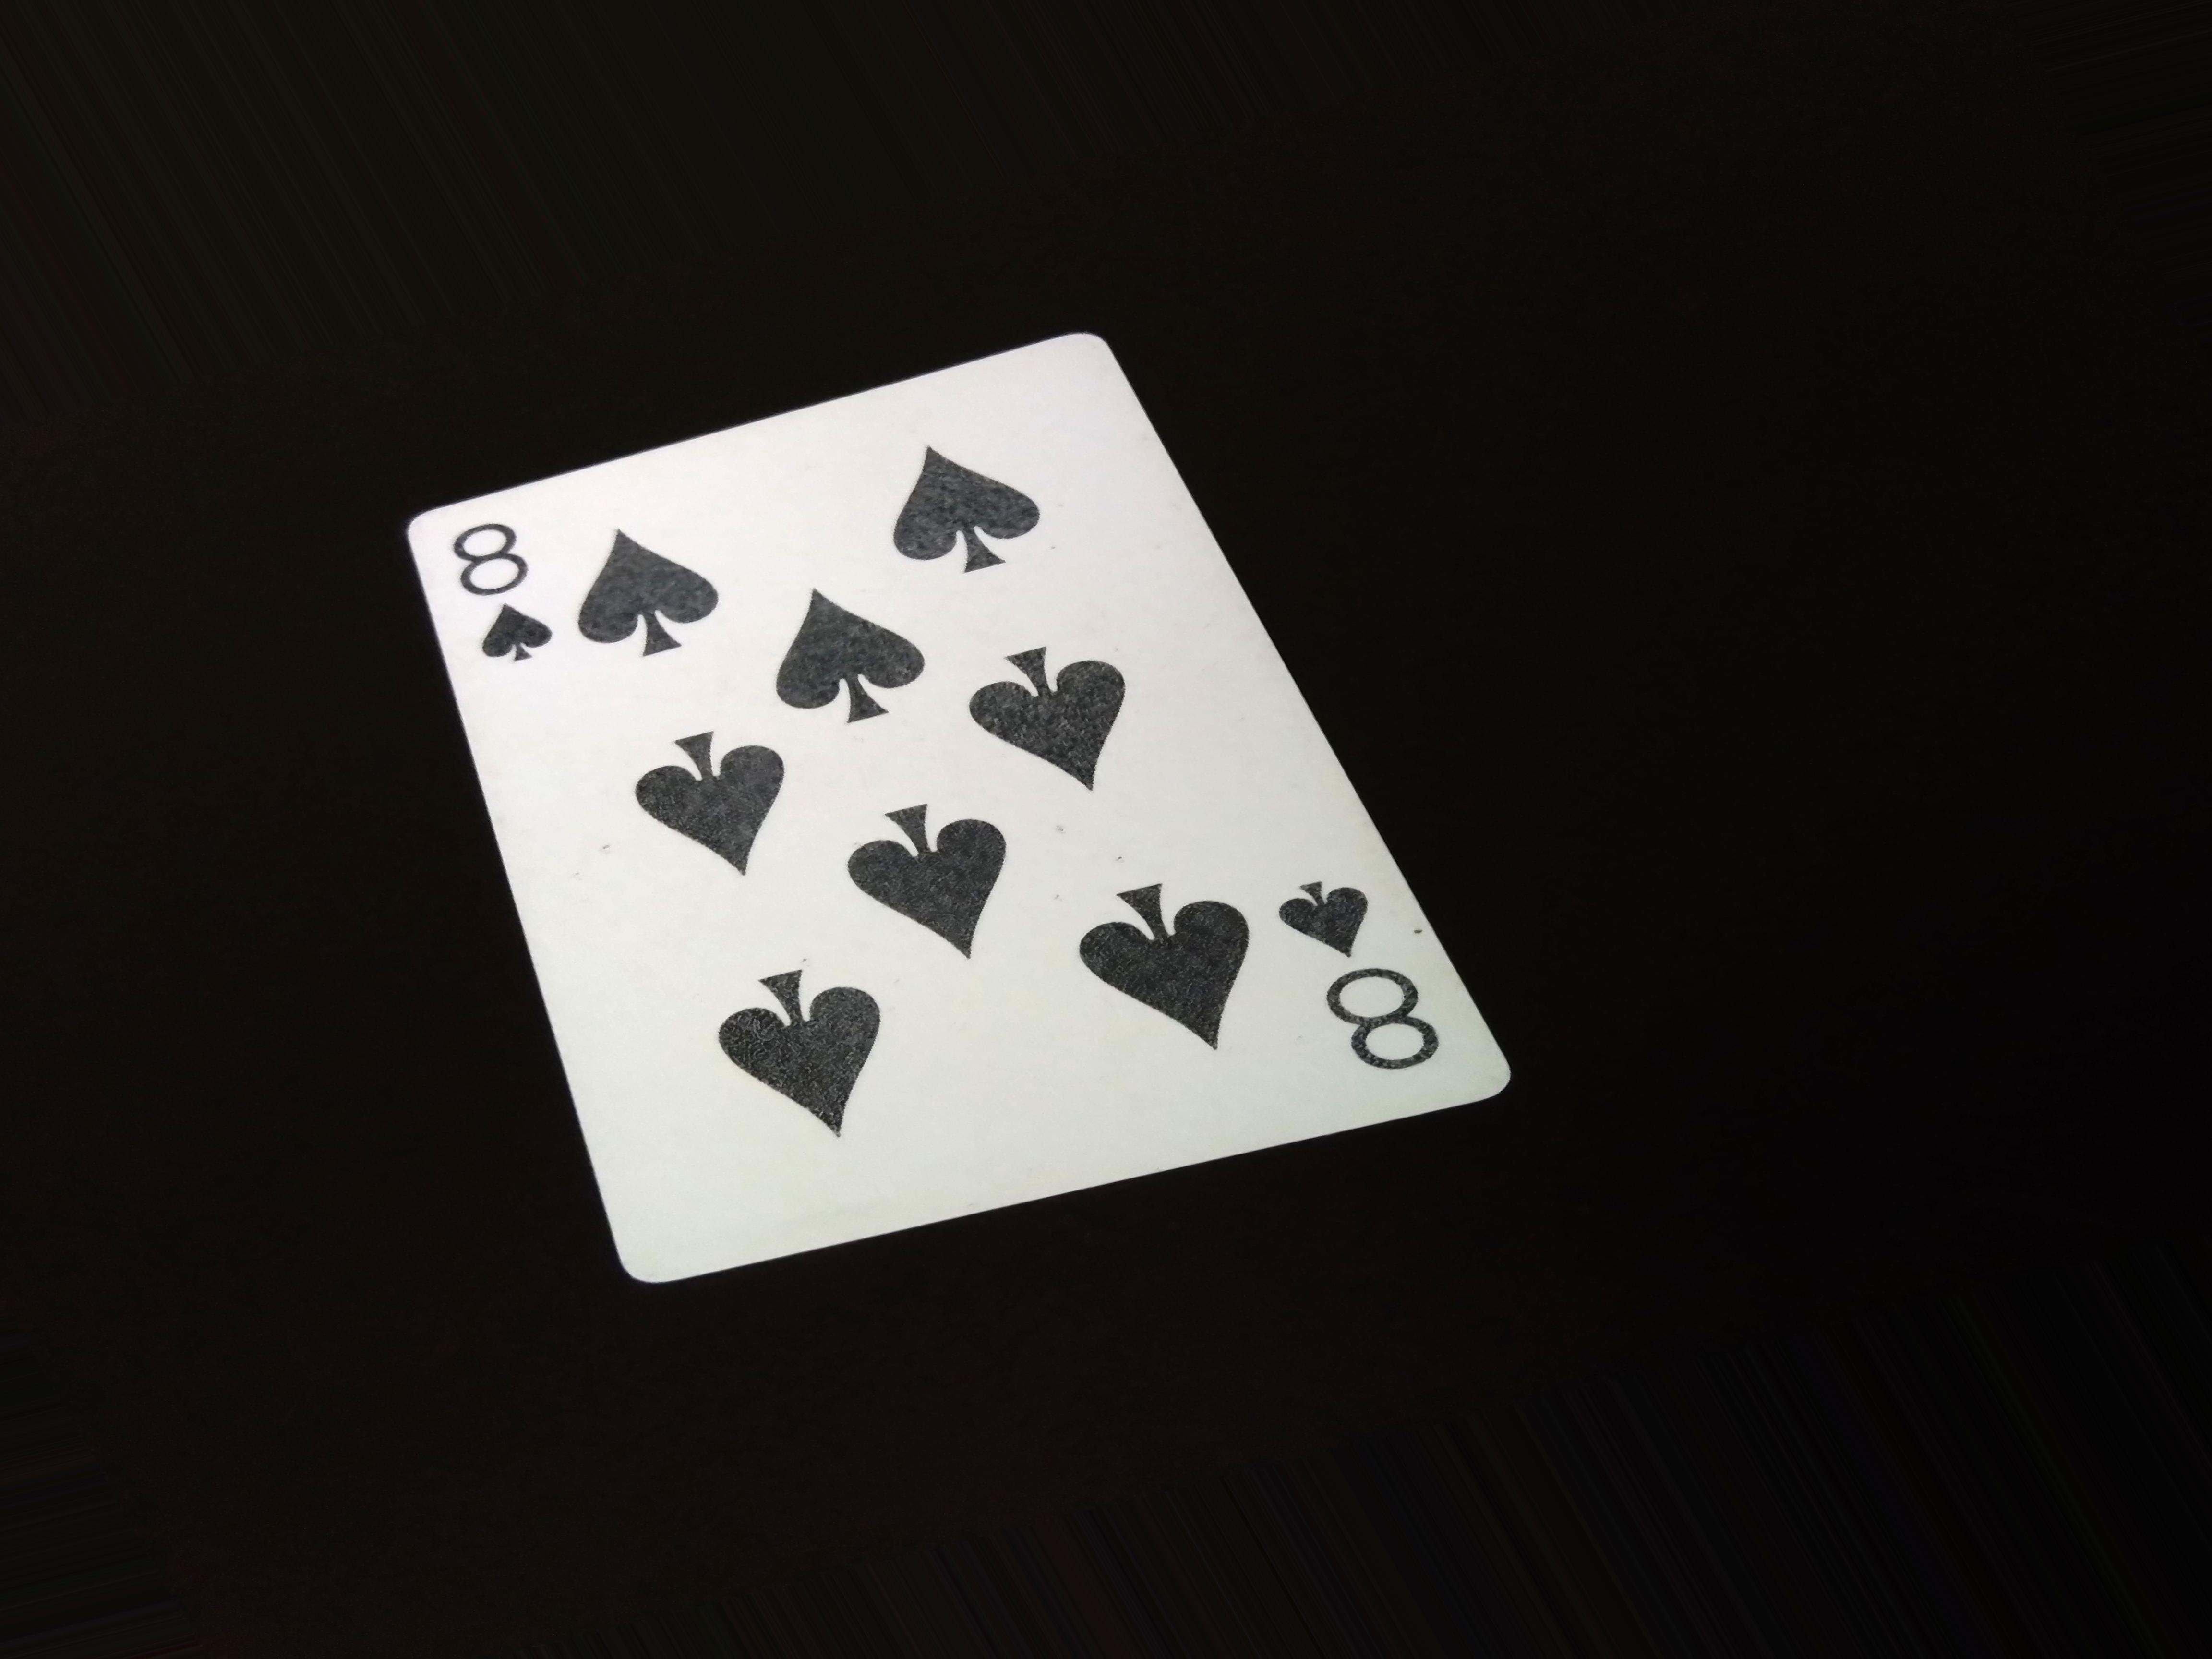8S: (1280, 899, 1440, 1063)
